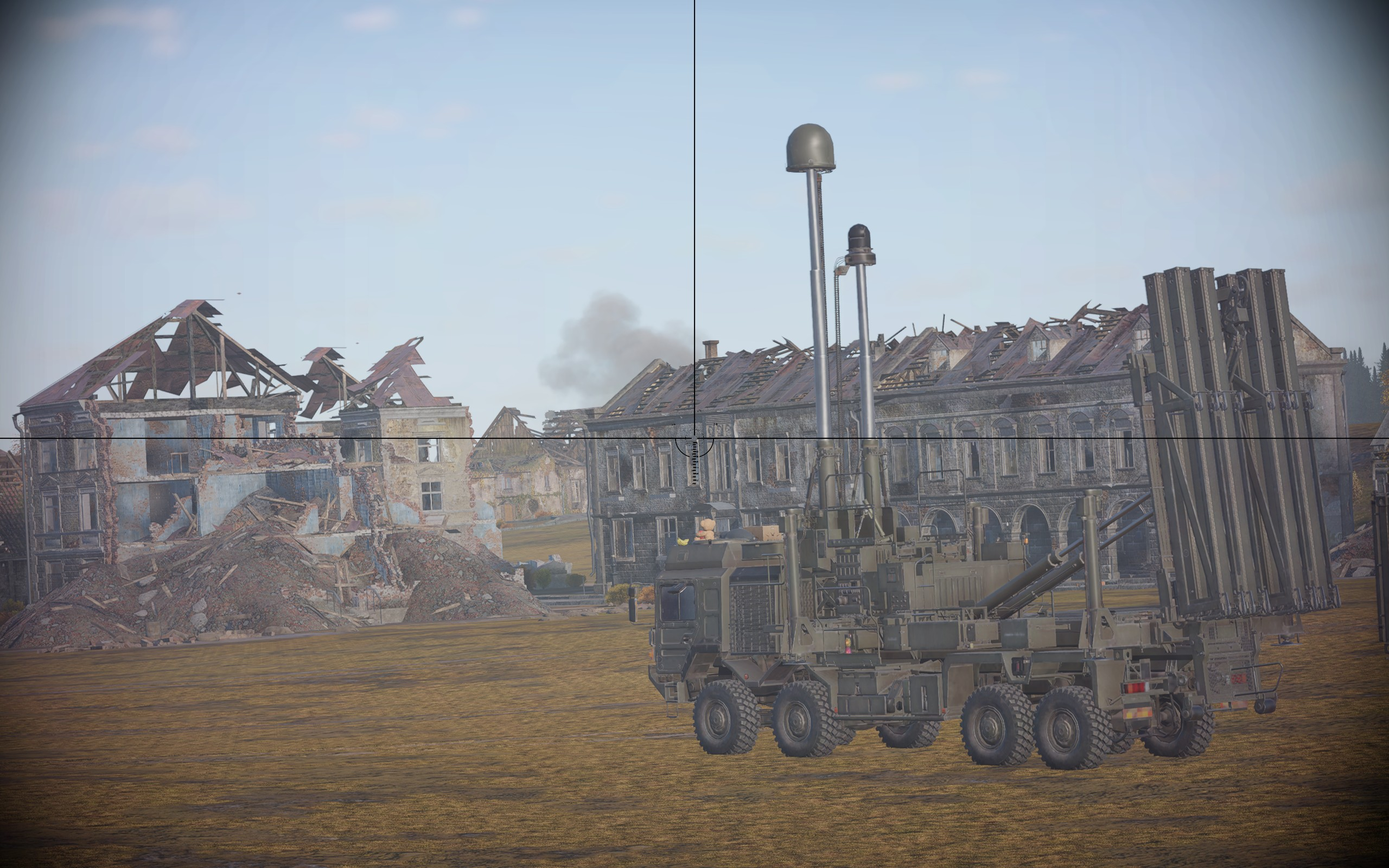spaa_TEL: (645, 119, 1341, 770)
